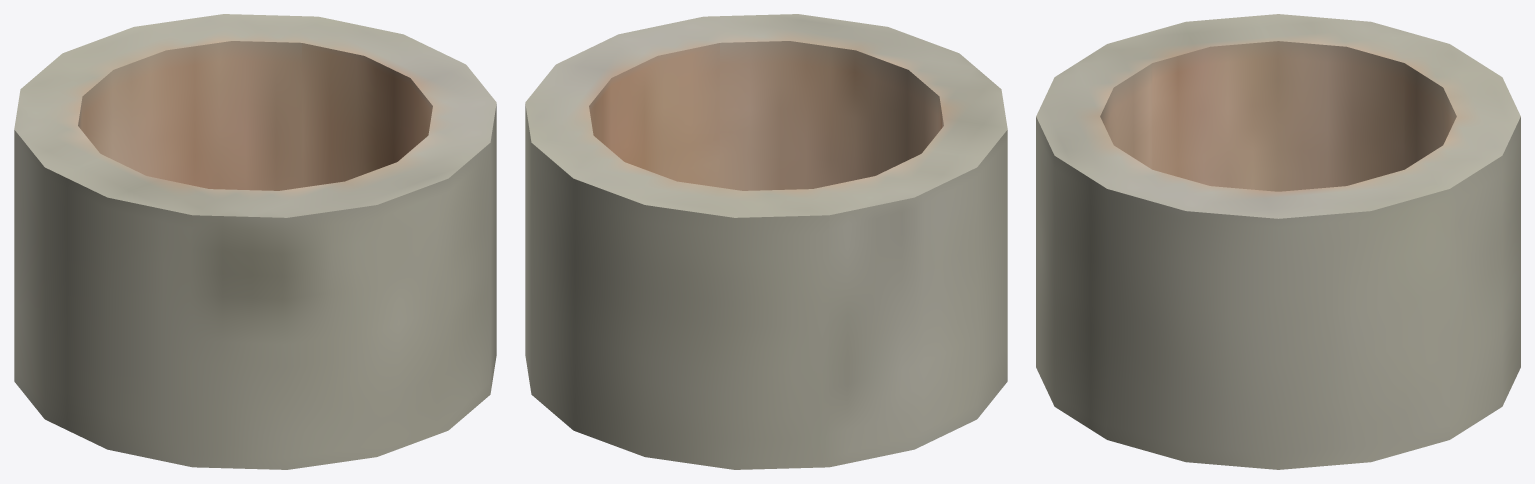
The model's file is Cinta.fbx.
3 renders of one model, left to right at view 1: azimuth 30°, elevation 25°; view 2: azimuth 150°, elevation 25°; view 3: azimuth 270°, elevation 25°, orthographic.
Visible parts, largest first — view 1: Cinta; view 2: Cinta; view 3: Cinta.
Boxes of the visible parts, x1,y1,x2,y2 form: Cinta: [14, 14, 496, 469]; Cinta: [525, 14, 1007, 469]; Cinta: [1036, 14, 1520, 469].
Size of the model in its own units: 24.76 by 14.15 by 24.76.
